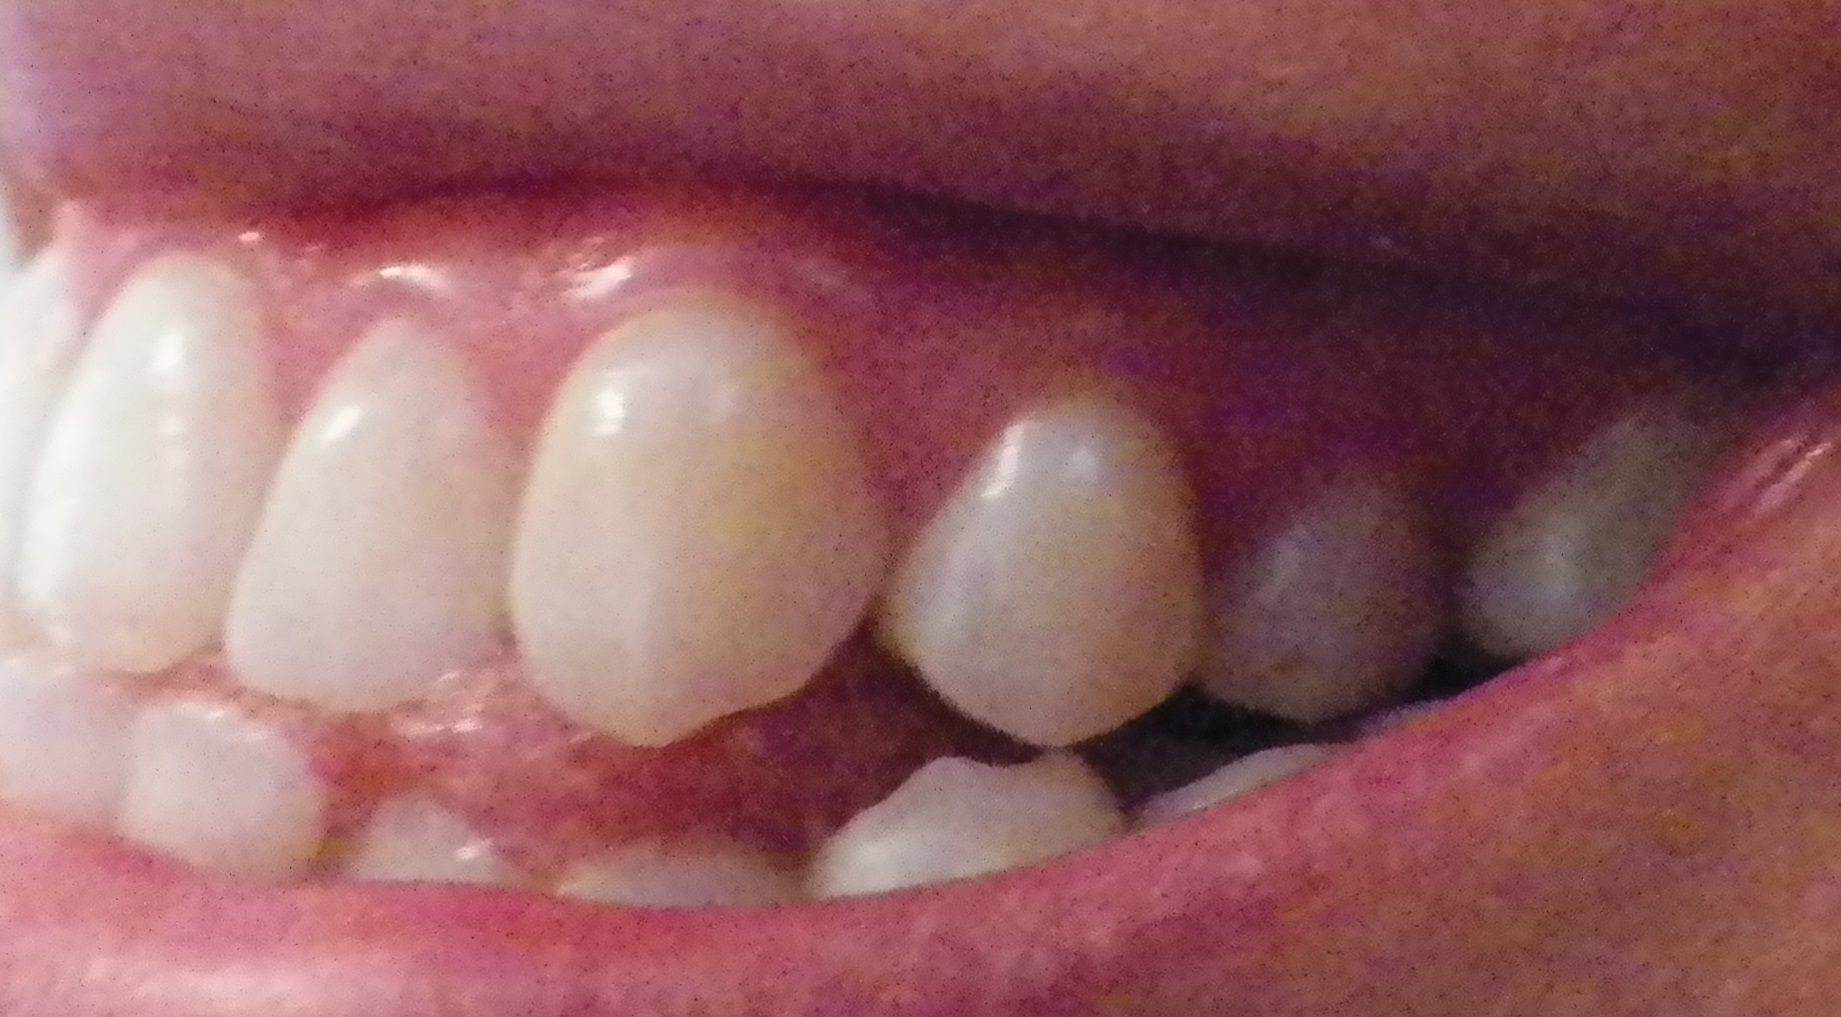boca: (8, 239, 1668, 911)
